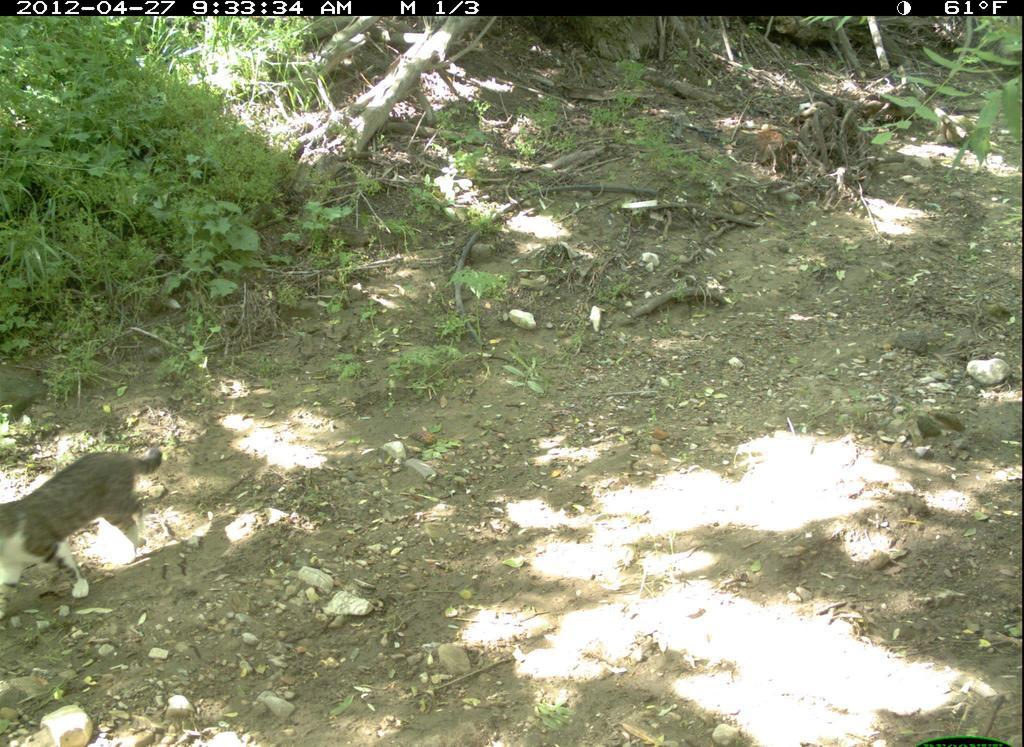cat: (3, 427, 176, 624)
